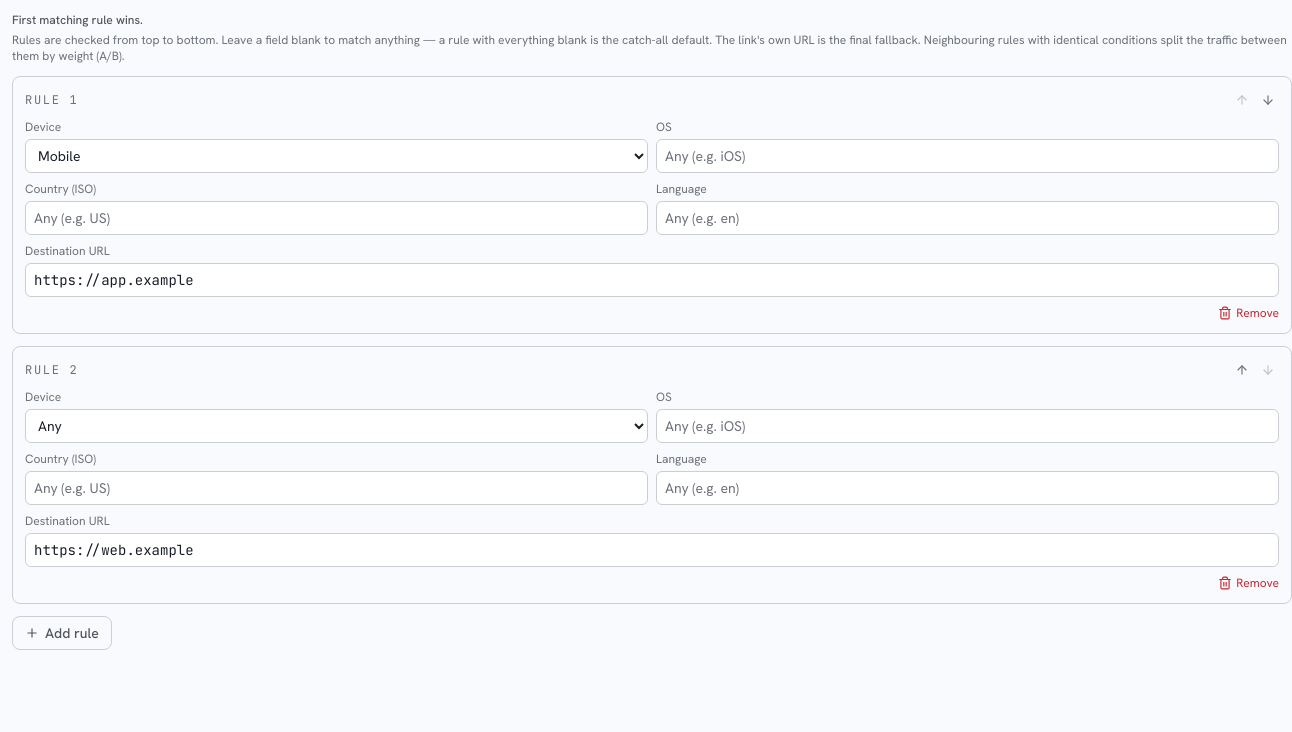
Test: RoutingRulesEditor › turns two rules into an A/B split once their conditions match, and back when they differ
Expected: the text "A/B split" is not shown
Expected: the field labelled "weight" is not shown
Select "Mobile" in the 2nd dropdown labelled "Device" at point(336, 426), box x1=25 y1=409 x2=648 y2=443
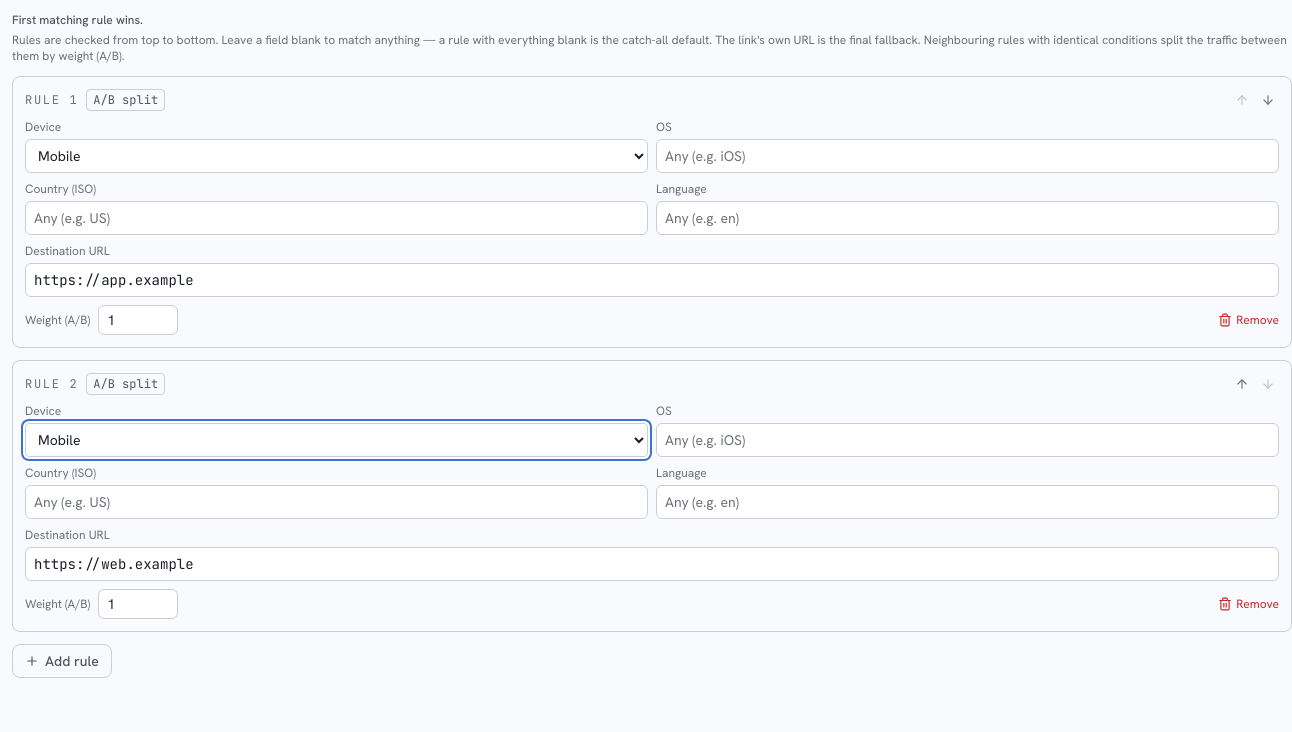
Expected: the text "A/B split" is shown 2 times, x1=86 y1=89 x2=165 y2=111; x1=86 y1=373 x2=165 y2=395
Expected: the number of number fields labelled "Weight (A/B)" is 2, x1=98 y1=305 x2=178 y2=335; x1=98 y1=589 x2=178 y2=619
Select "Desktop" in the 2nd dropdown labelled "Device" at point(336, 440), box x1=25 y1=423 x2=648 y2=457
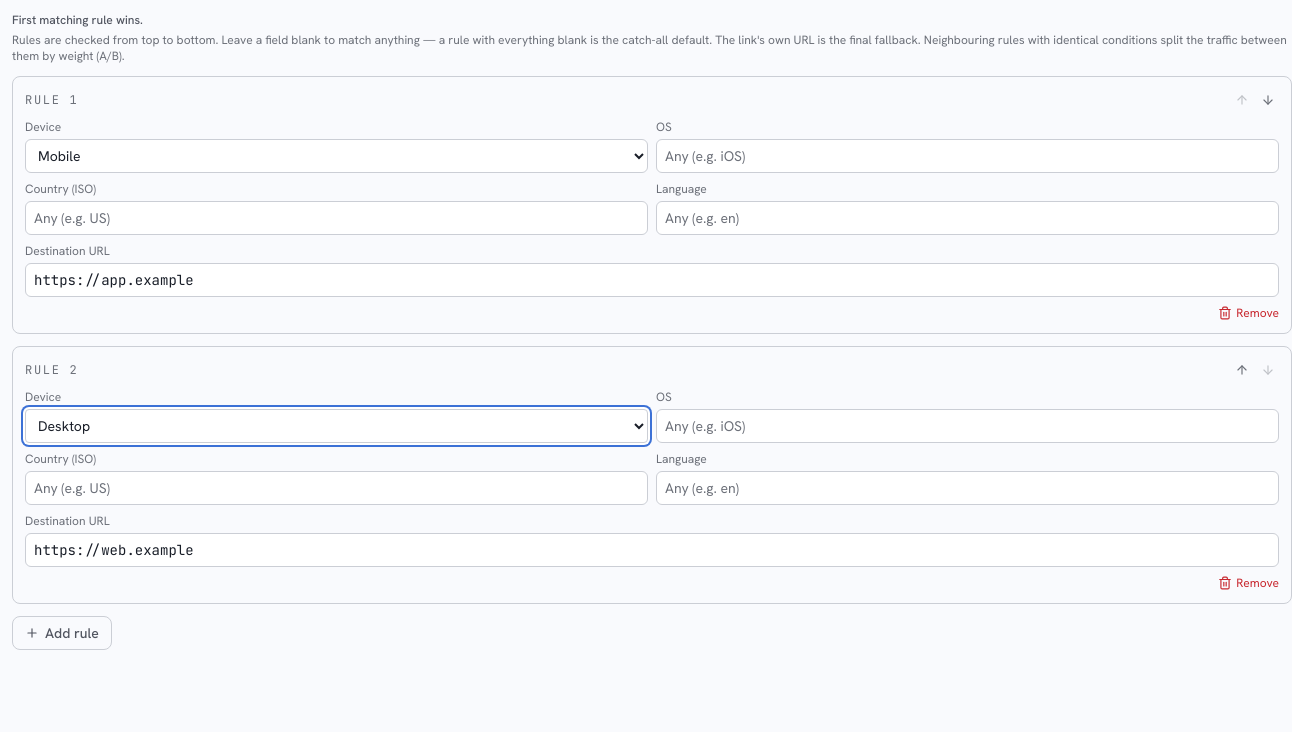
Expected: the field labelled "weight" is not shown
Expected: the text "A/B split" is gone
